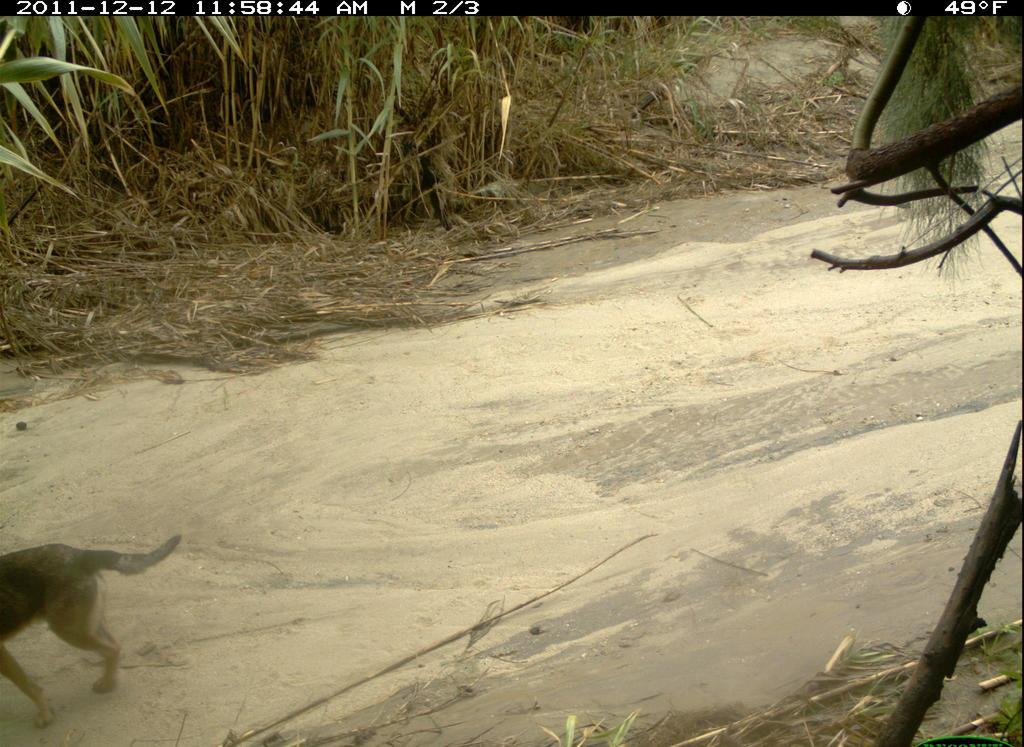dog: (1, 528, 184, 728)
